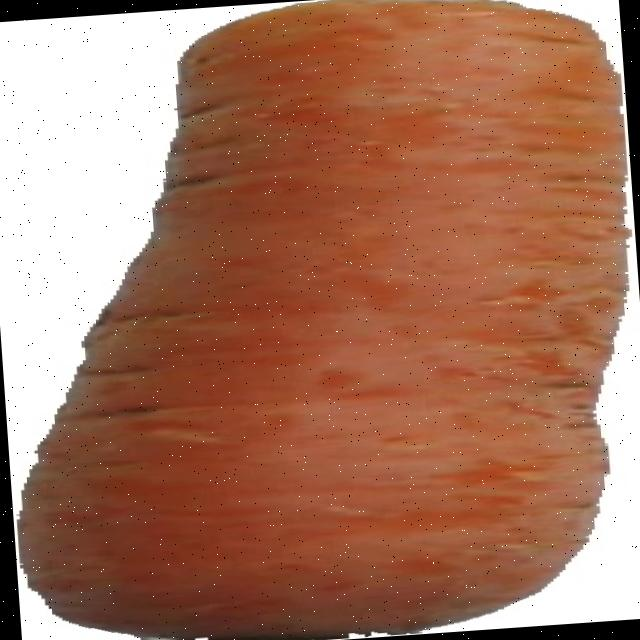carrot: (21, 0, 625, 640)
